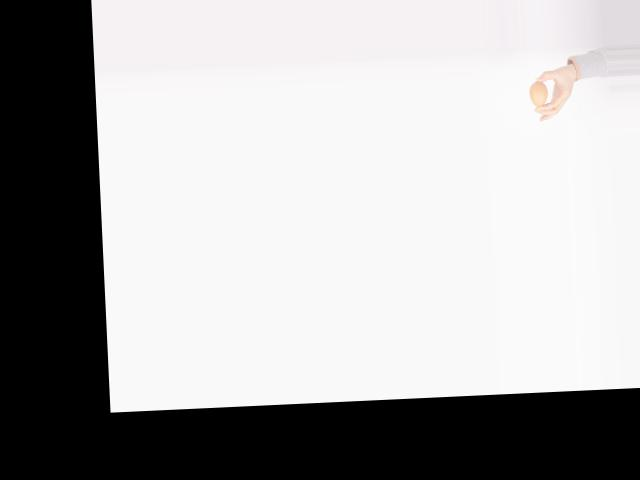egg: (528, 81, 547, 107)
